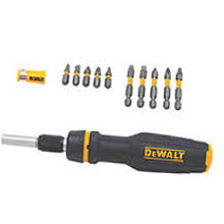Screwdriver: (3, 115, 224, 184)
